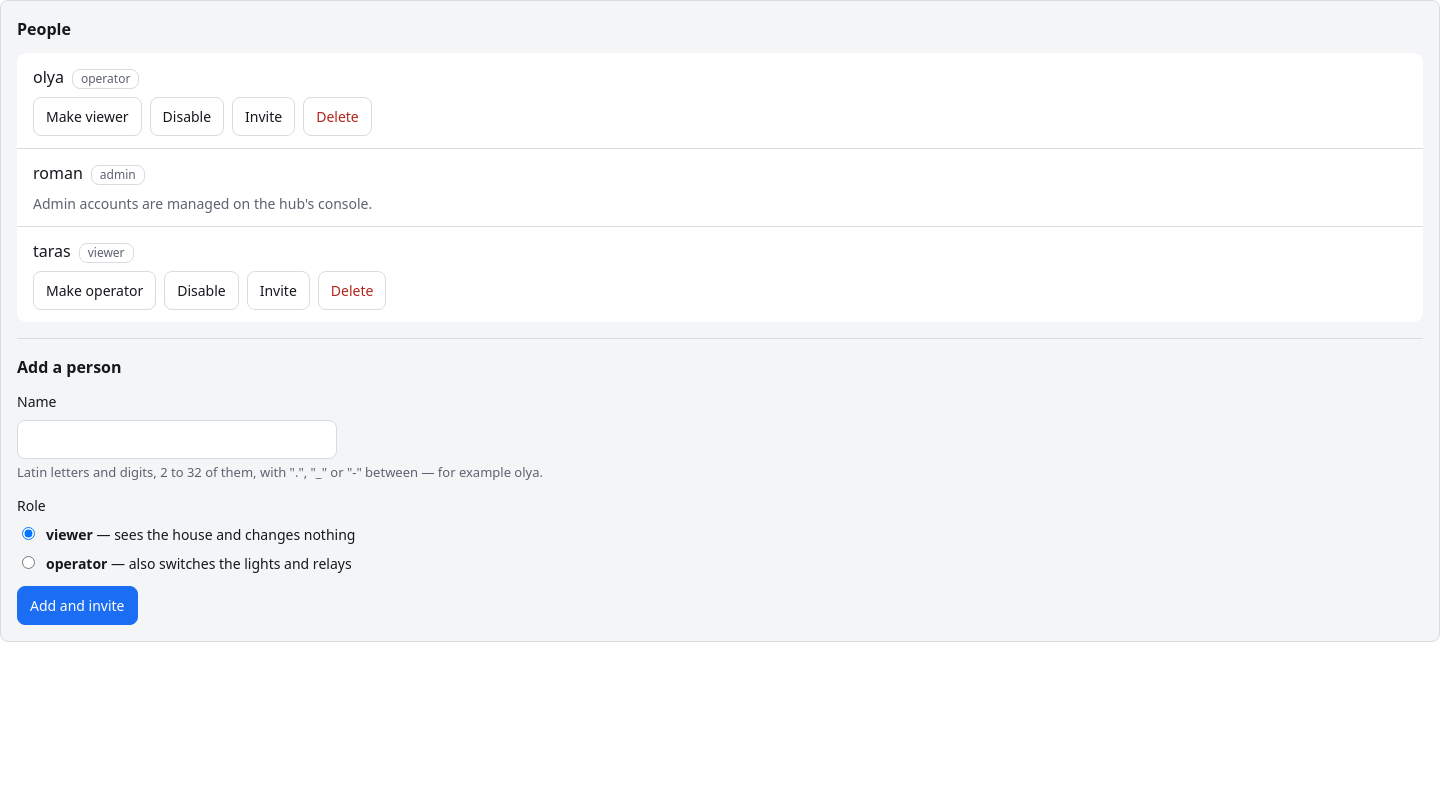
Test: PeoplePanel › changing an account › shows the hub’s answer before the list is read again
Click the button "Make viewer": (87,116) [33,97,142,136]
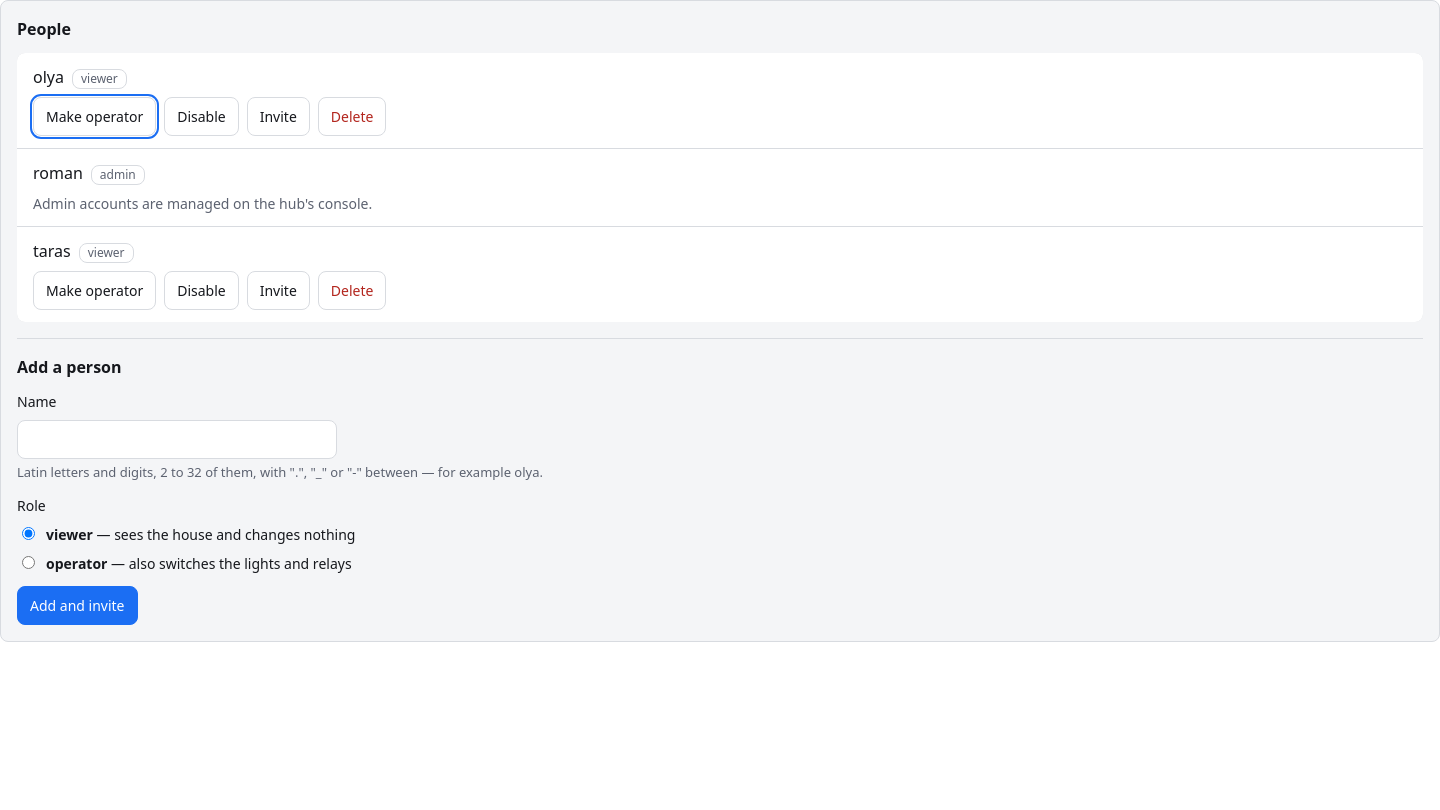
Expected: the 1st text "viewer" is shown, [72,69,127,89]
